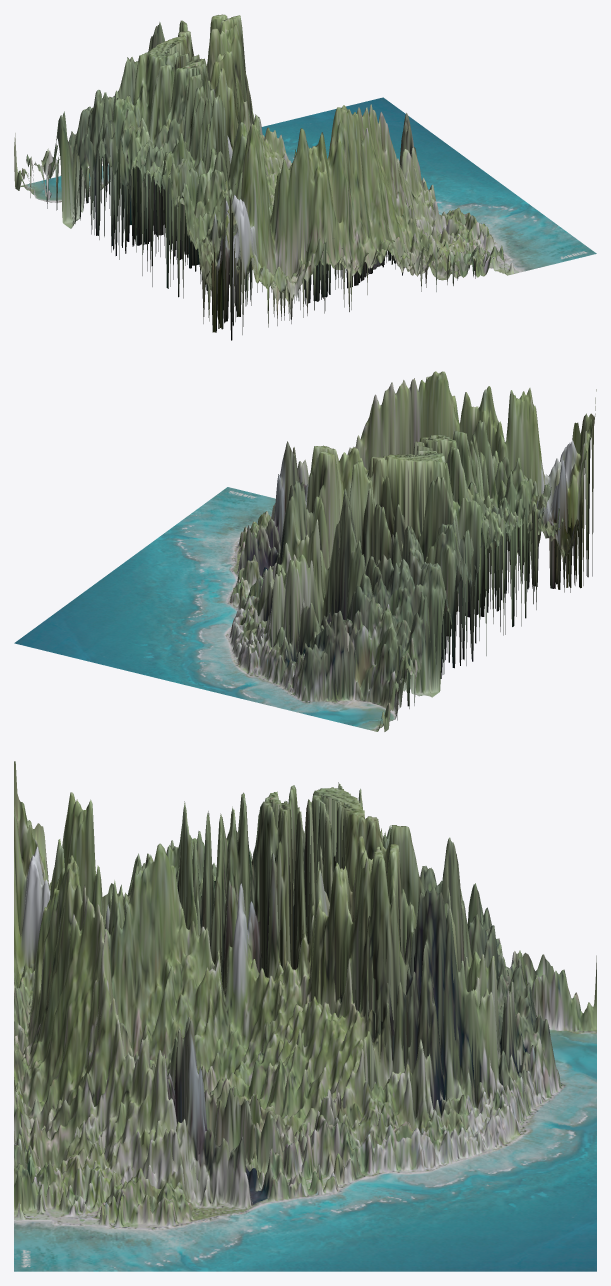
Rendered from dsm_019854c8ab_mesh.glb.
The picture shows the model from 3 angles, top to bottom: view 1: azimuth 30°, elevation 25°; view 2: azimuth 150°, elevation 25°; view 3: azimuth 270°, elevation 25°; orthographic projection. The views are drawn at different scales.
Parts seen in each view (by area): view 1: geometry_0; view 2: geometry_0; view 3: geometry_0.
Boxes of the visible parts, bbox=[...] form: geometry_0: bbox=[14, 14, 596, 340]; geometry_0: bbox=[14, 371, 596, 731]; geometry_0: bbox=[14, 761, 596, 1271].
Size of the model in its own units: 2 by 1 by 2.
